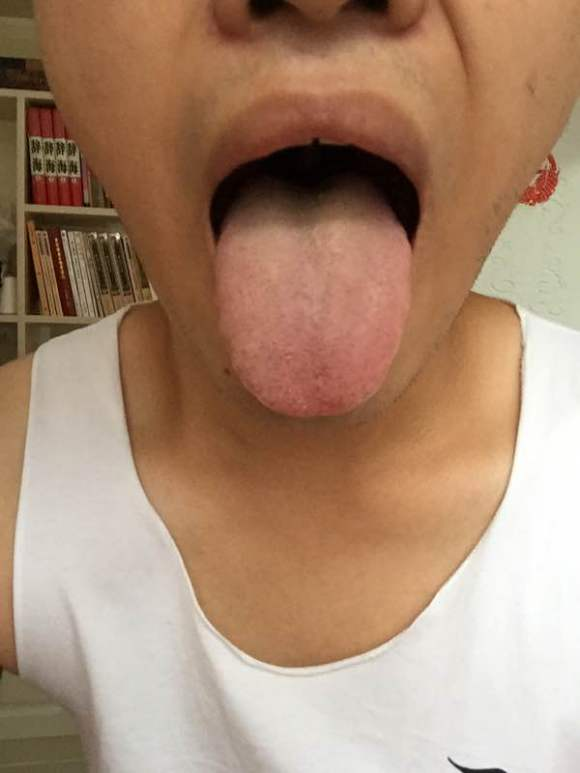huangtaishe: (216, 177, 412, 416)
